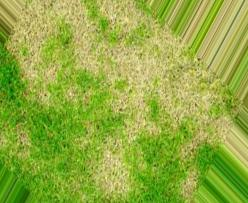patch: (88, 13, 151, 94), (148, 47, 186, 115), (26, 11, 47, 95), (100, 154, 126, 191), (199, 106, 224, 133), (49, 3, 76, 16)
